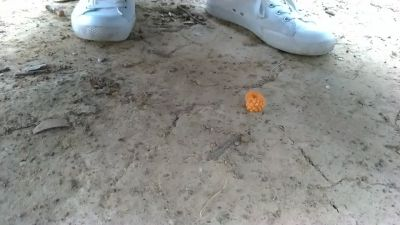eggs: (243, 86, 266, 116)
